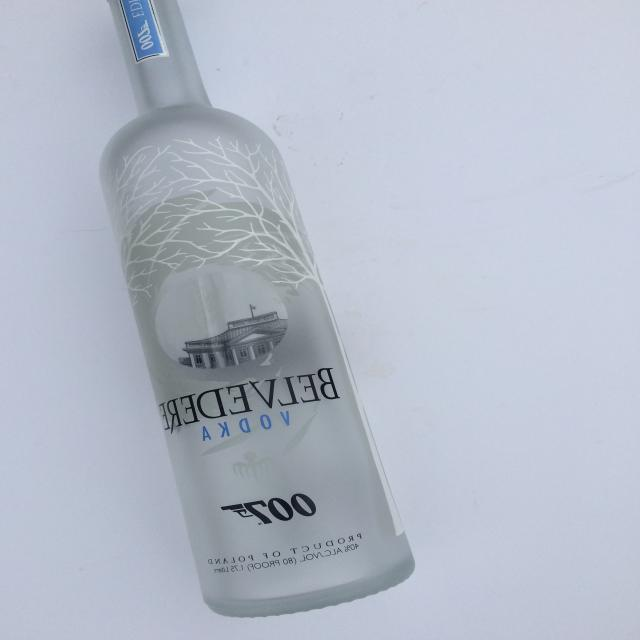glass: (98, 0, 416, 618)
